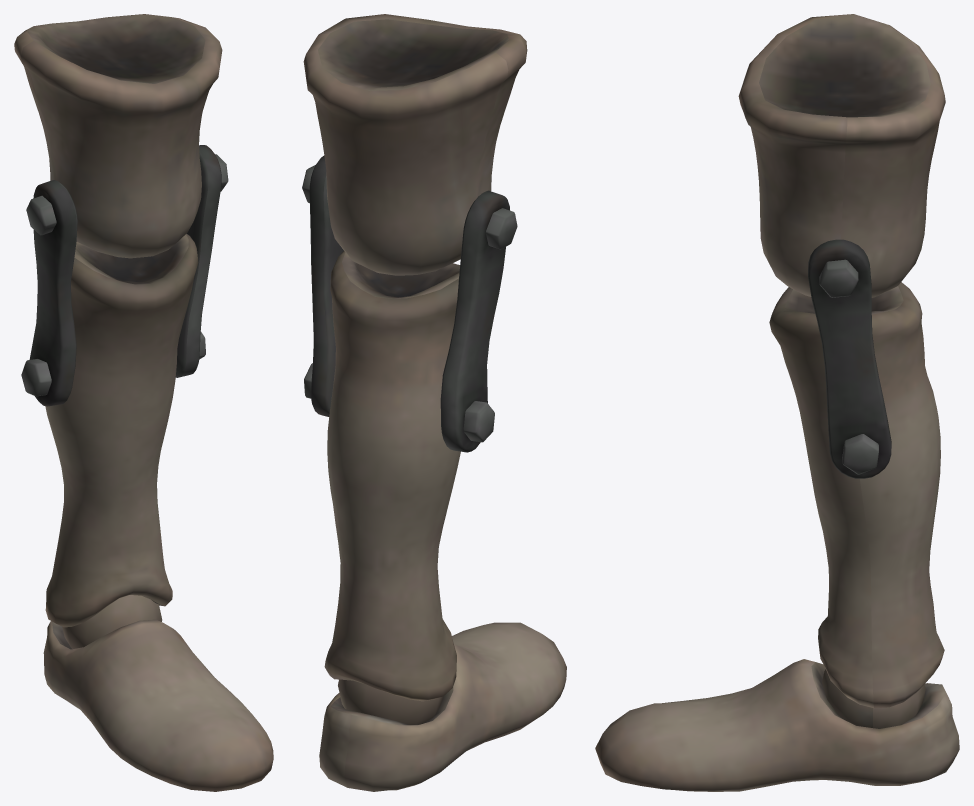
Rendered from Leg_3.fbx.
3 views of the same model, side by side, from view 1: azimuth 30°, elevation 25°; view 2: azimuth 150°, elevation 25°; view 3: azimuth 270°, elevation 25° (orthographic). The views are drawn at different scales.
Visible parts, largest first — view 1: Leg3; view 2: Leg3; view 3: Leg3.
Part boxes in pixels (x1=…): Leg3: x1=14, y1=14, x2=273, y2=791; Leg3: x1=302, y1=14, x2=566, y2=791; Leg3: x1=595, y1=14, x2=959, y2=791.
Bounding box in the file's own units: 37.38 × 126 × 58.79.
